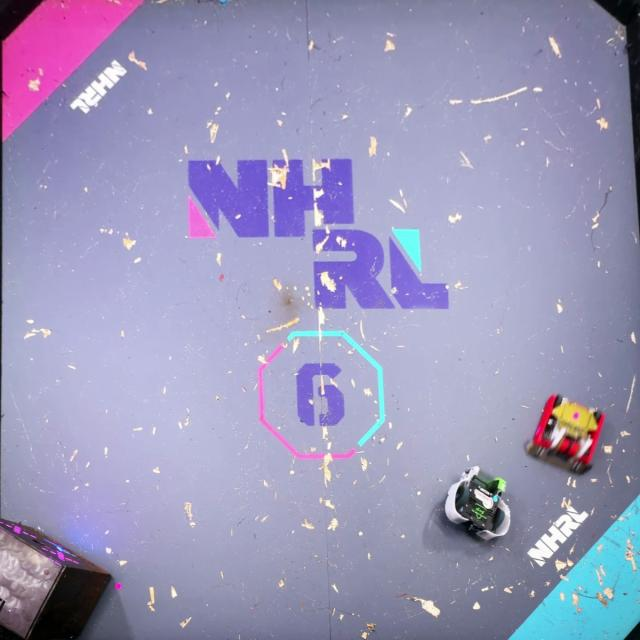housebot: (0, 517, 113, 639)
robot: (529, 391, 607, 475), (444, 466, 514, 546)
